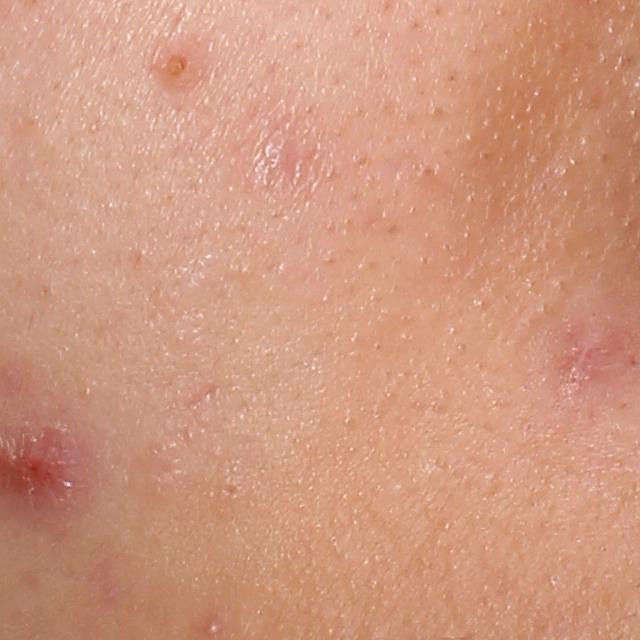papule: (554, 320, 603, 378), (154, 42, 205, 87), (201, 621, 222, 639)
